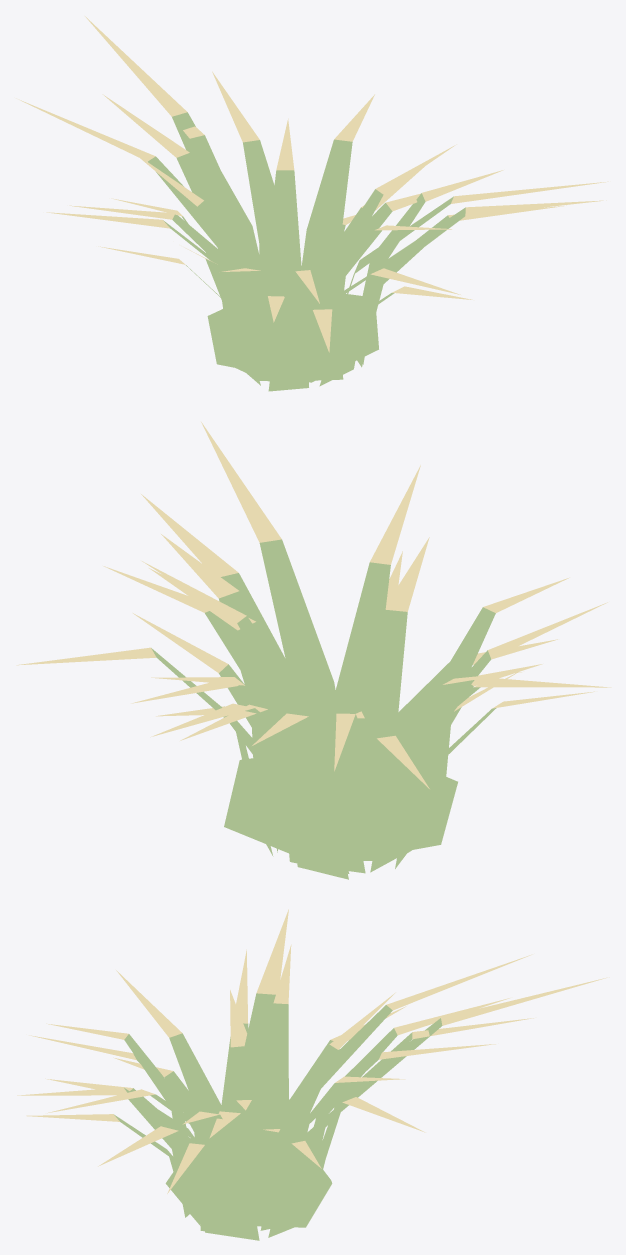
The model's file is Blender_Fescue_2.glb.
The picture shows the model from 3 angles, top to bottom: view 1: azimuth 30°, elevation 25°; view 2: azimuth 150°, elevation 25°; view 3: azimuth 270°, elevation 25°; orthographic projection. The views are drawn at different scales.
Parts seen in each view (by area): view 1: Blender_Fescue_2; view 2: Blender_Fescue_2; view 3: Blender_Fescue_2.
Part boxes in pixels (x1,y1,x2,y2): Blender_Fescue_2: [16, 16, 608, 391]; Blender_Fescue_2: [16, 422, 611, 879]; Blender_Fescue_2: [17, 909, 609, 1240].
Size of the model in its own units: 0.8536 by 0.384 by 0.9493.
